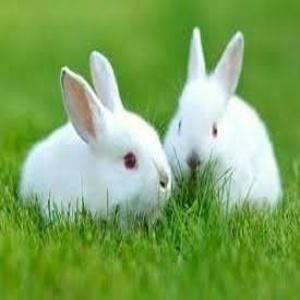rabbit: (18, 28, 283, 224)
